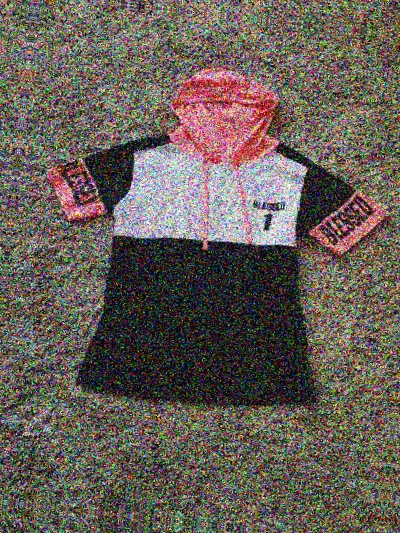Hoodie: (32, 52, 400, 433)
